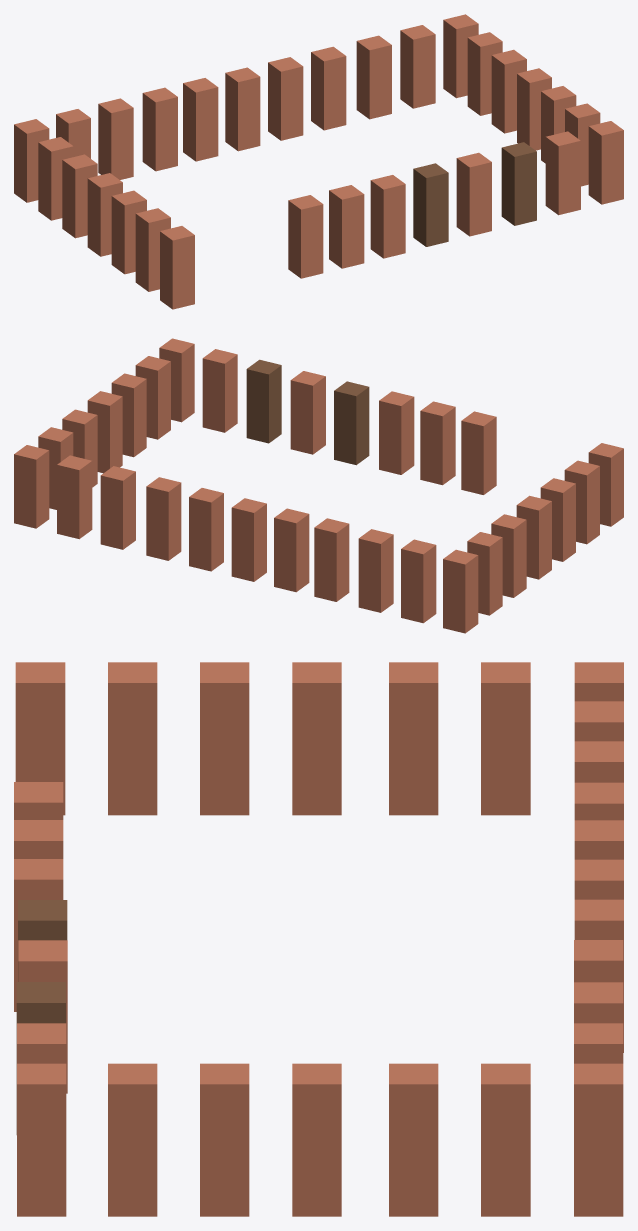
Rendered from vallaNivel1.fbx.
The picture shows the model from 3 angles, top to bottom: view 1: azimuth 30°, elevation 25°; view 2: azimuth 150°, elevation 25°; view 3: azimuth 270°, elevation 25°; orthographic projection. The views are drawn at different scales.
Parts seen in each view (by area): view 1: Cube.135, Cube.162, Cube.164, Cube.019, Cube.174, Cube.018, Cube.021, Cube.022, Cube.176, Cube.161, Cube.017, Cube.020 (+18 smaller); view 2: Cube.176, Cube.156, Cube.017, Cube.175, Cube.171, Cube.016, Cube.174, Cube.020, Cube.164, Cube.135, Cube.162, Cube.019 (+18 smaller); view 3: Cube.168, Cube.170, Cube.158, Cube.160, Cube.166, Cube.167, Cube.169, Cube.134, Cube.153, Cube.157, Cube.159, Cube.023 (+18 smaller).
Boxes of the visible parts, bbox=[...] form: Cube.135: bbox=[311, 46, 346, 130]; Cube.162: bbox=[413, 163, 448, 246]; Cube.164: bbox=[329, 185, 364, 268]; Cube.019: bbox=[288, 195, 323, 278]; Cube.174: bbox=[456, 152, 491, 236]; Cube.018: bbox=[370, 175, 405, 258]; Cube.021: bbox=[356, 35, 391, 119]; Cube.022: bbox=[400, 25, 435, 108]; Cube.176: bbox=[183, 78, 218, 161]; Cube.161: bbox=[545, 131, 580, 215]; Cube.017: bbox=[142, 87, 177, 171]; Cube.020: bbox=[225, 67, 260, 151]; Cube.176: bbox=[274, 508, 309, 592]; Cube.156: bbox=[358, 529, 393, 612]; Cube.017: bbox=[314, 518, 349, 601]; Cube.175: bbox=[443, 549, 478, 633]; Cube.171: bbox=[246, 359, 281, 443]; Cube.016: bbox=[401, 539, 436, 623]; Cube.174: bbox=[290, 371, 325, 454]; Cube.020: bbox=[231, 498, 266, 581]; Cube.164: bbox=[420, 401, 455, 485]; Cube.135: bbox=[146, 477, 181, 560]; Cube.162: bbox=[334, 381, 369, 465]; Cube.019: bbox=[461, 411, 496, 494]; Cube.168: bbox=[292, 662, 341, 815]; Cube.170: bbox=[481, 662, 530, 815]; Cube.158: bbox=[292, 1063, 341, 1216]; Cube.160: bbox=[481, 1063, 530, 1216]; Cube.166: bbox=[108, 662, 157, 815]; Cube.167: bbox=[200, 662, 249, 815]; Cube.169: bbox=[389, 662, 438, 815]; Cube.134: bbox=[17, 1063, 66, 1216]; Cube.153: bbox=[108, 1063, 157, 1216]; Cube.157: bbox=[200, 1063, 249, 1216]; Cube.159: bbox=[389, 1063, 438, 1216]; Cube.023: bbox=[574, 1063, 623, 1216].
Bounding box in the file's own units: 10.13 × 1.48 × 6.18.
